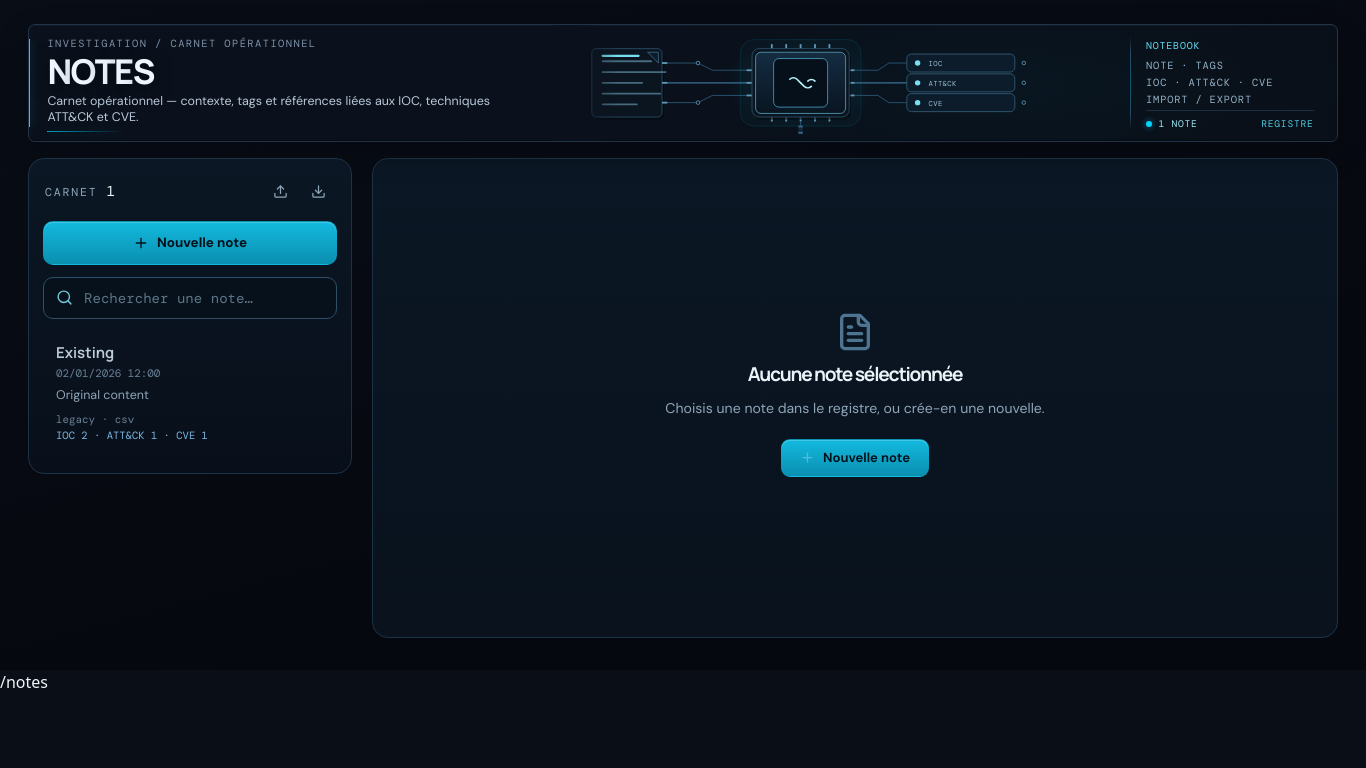
Scenario: NotesPage editor and deletion › preserves every edit field after an API failure and returns to view only on success
Step 1. Click the button "Existing" → [172, 394], box [43,331,301,457]
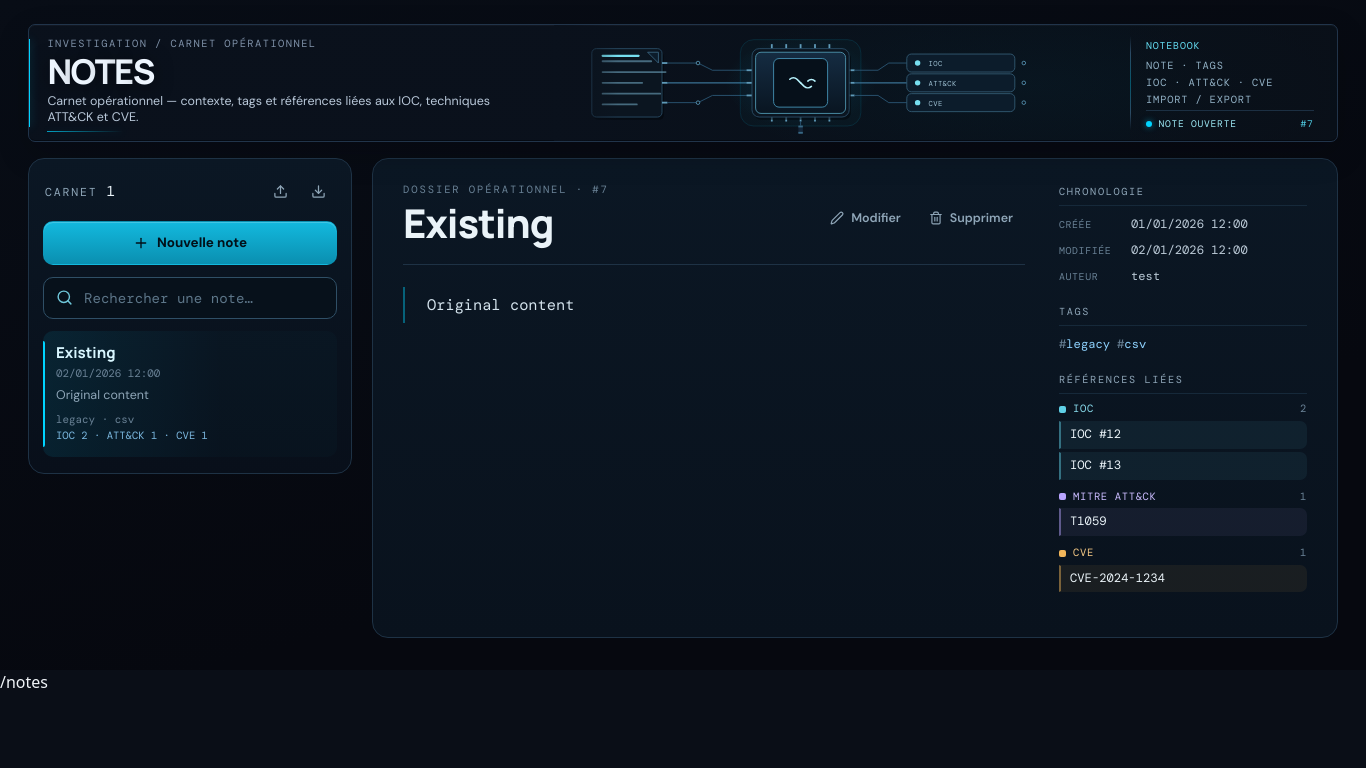
Step 2. Click the button "Modifier" → [866, 218], box [818,201,913,235]
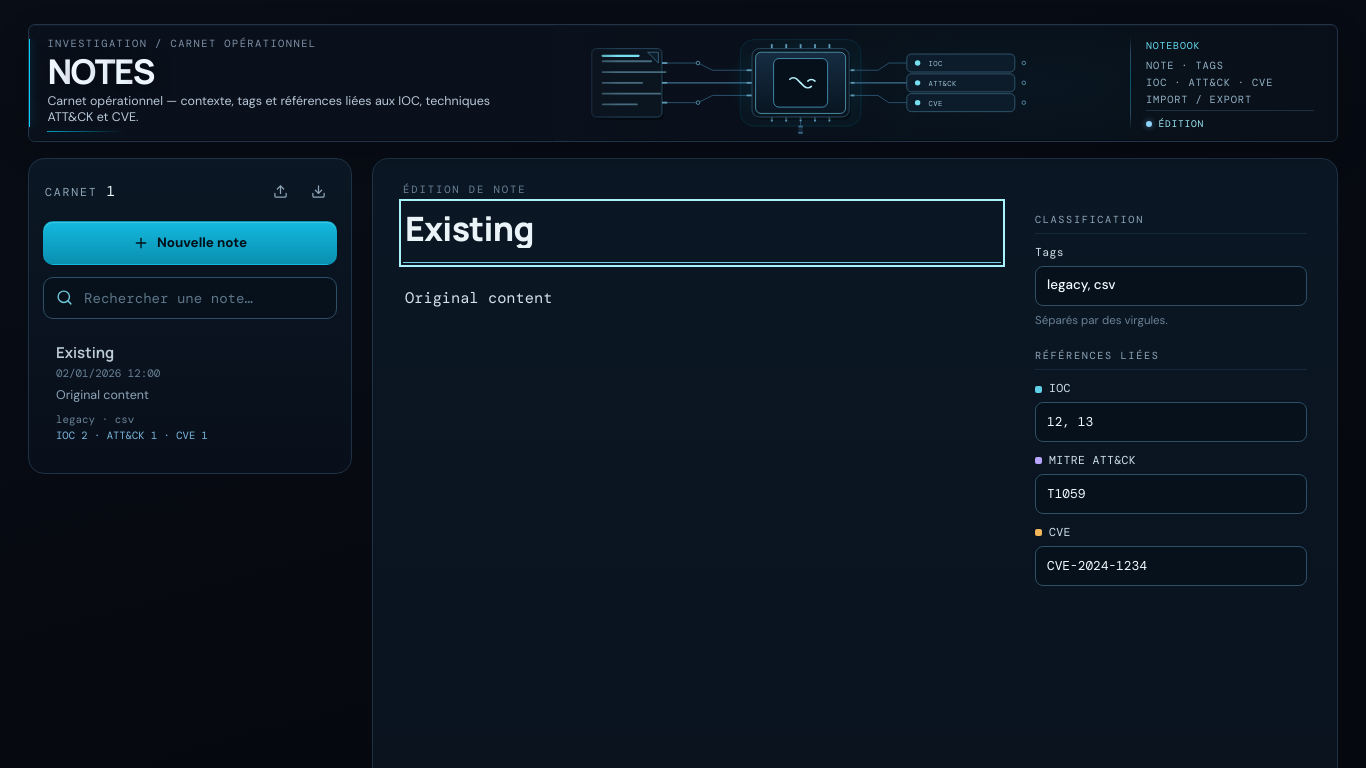
Expected: the field labelled "Tags" holds "legacy, csv", [1035,266,1307,306]
Expected: the field labelled "IOC" holds "12, 13", [1035,402,1307,442]
Expected: the field labelled "MITRE ATT&CK" holds "T1059", [1035,474,1307,514]
Step 3. Replace the text in the field named "Titre de la note" with "Updated" → [702, 233], box [403,203,1001,263]
(page scrolled)
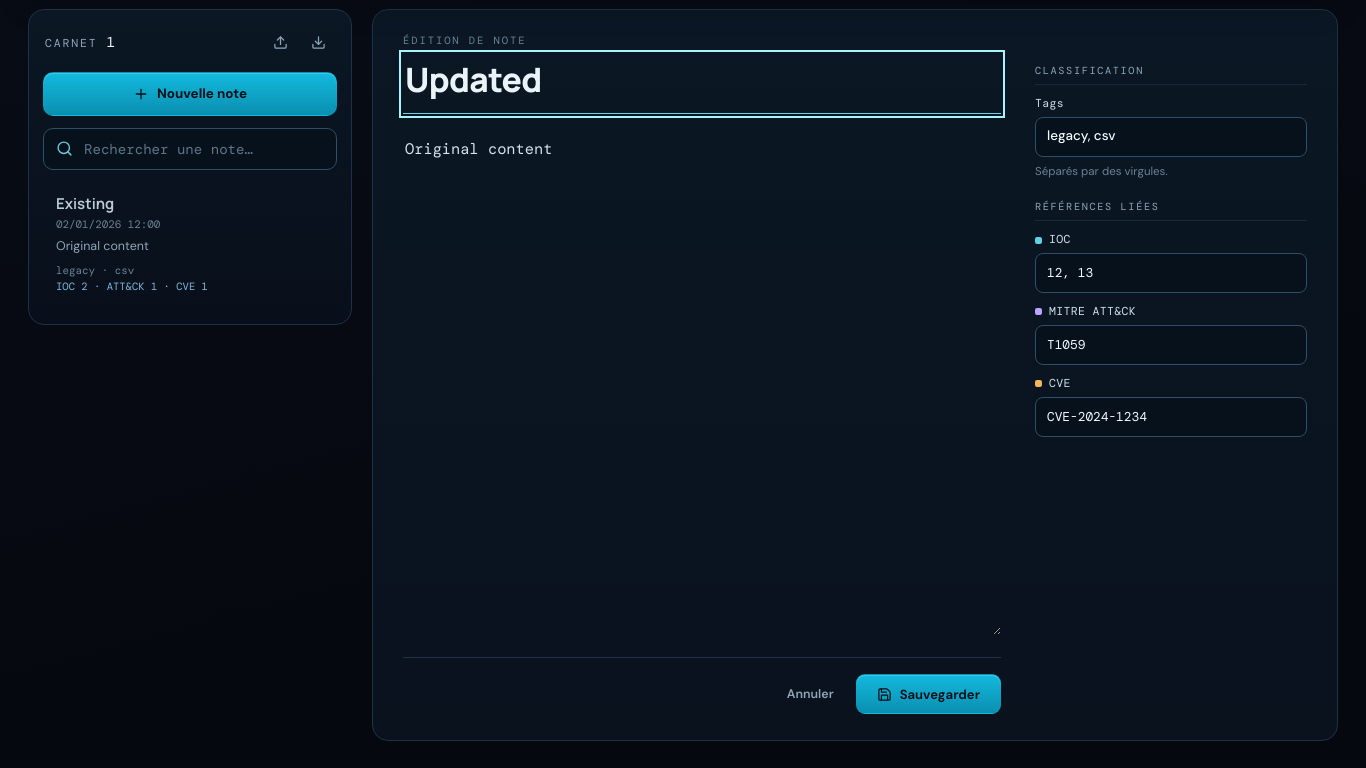
Step 4. Replace the text in the text box named "Corps de la note" with "Updated body" → [702, 385], box [403,134,1001,635]
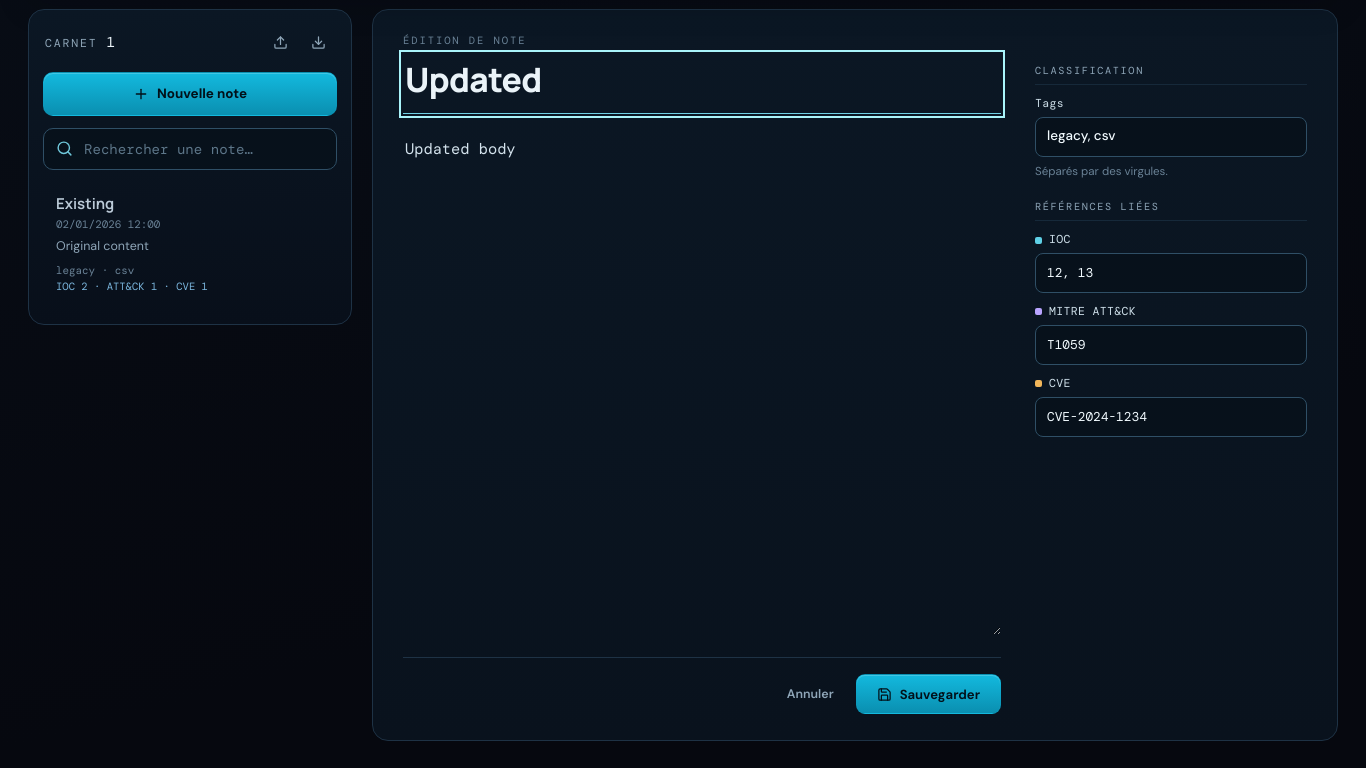
Step 5. Click the button "Sauvegarder" → [928, 694], box [856,674,1001,714]
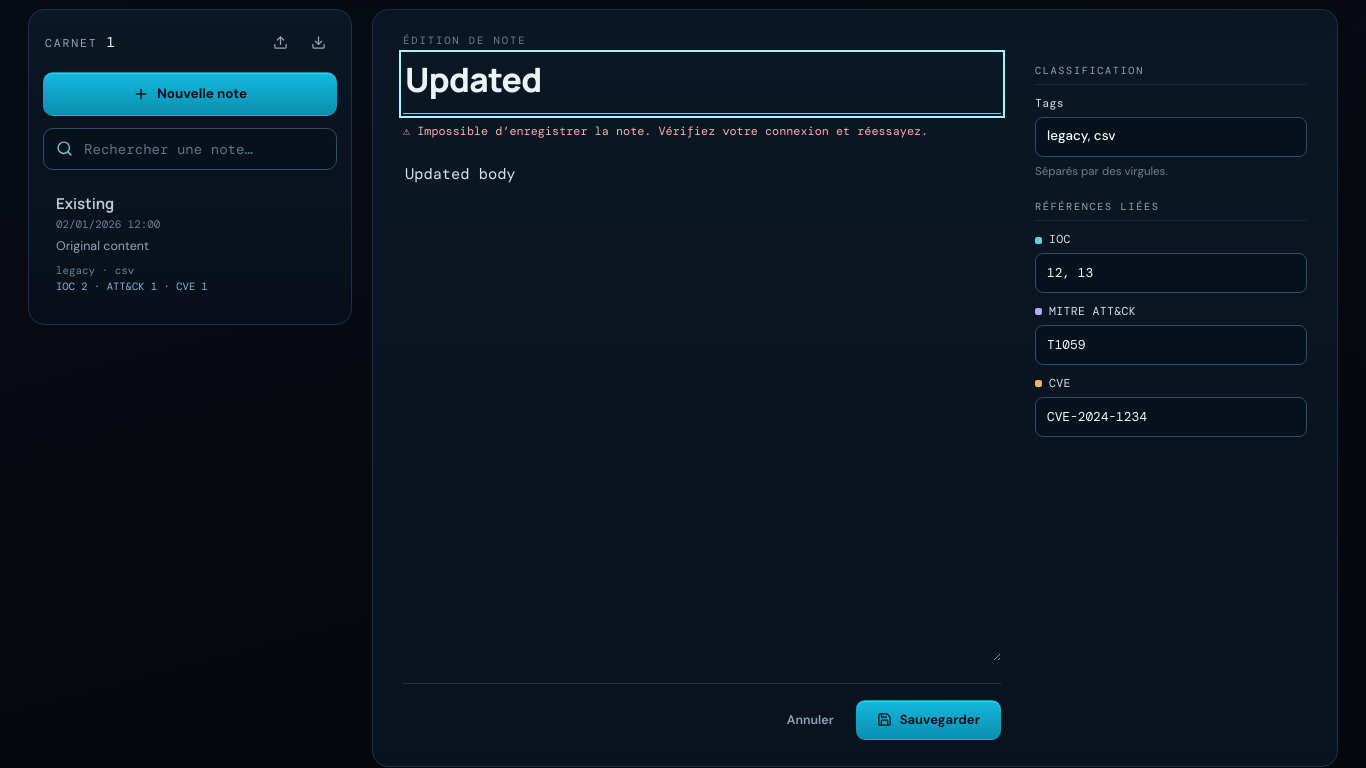
Expected: the button "Sauvegarder" is shown
Expected: the text "Impossible d’enregistrer la note. Vérifiez votre connexion et réessayez." is shown, [403,124,1001,139]
Step 6. Click the button "Sauvegarder" → [928, 720], box [856,700,1001,740]
(page scrolled)
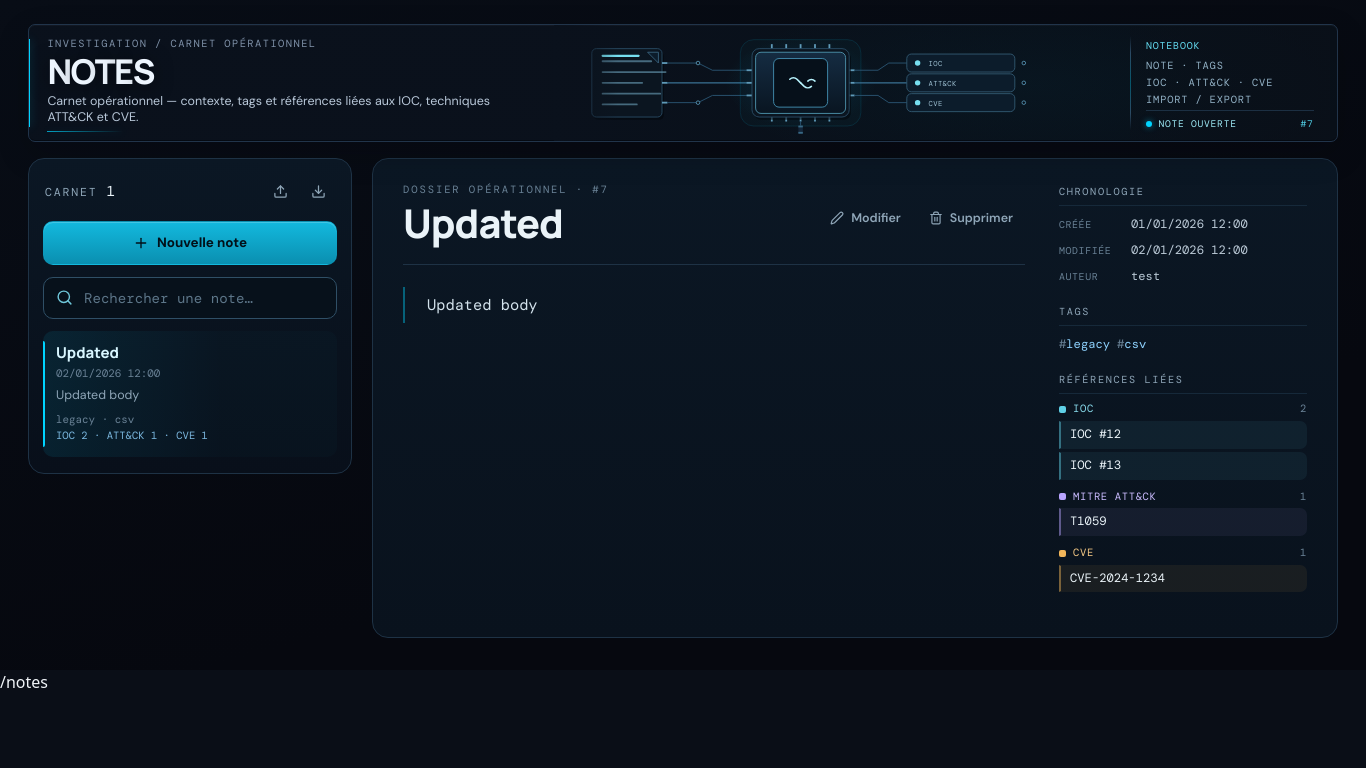
Expected: the 2nd text "Updated body" is shown, [56,387,139,403]
